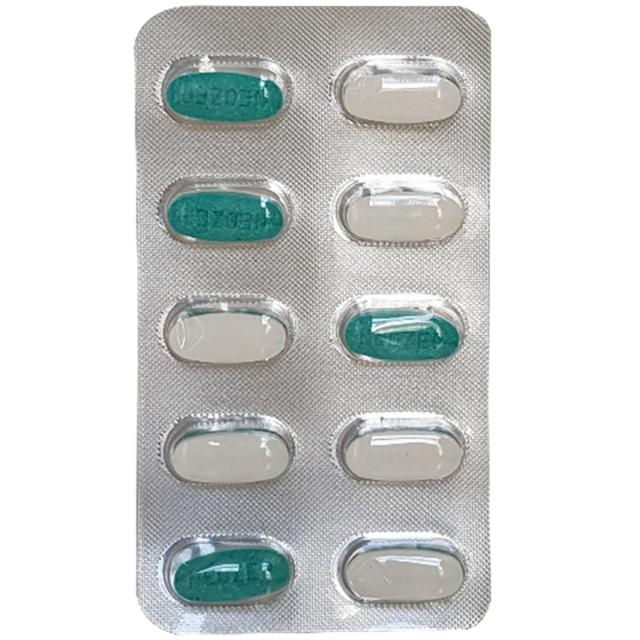blister: (132, 4, 497, 636)
